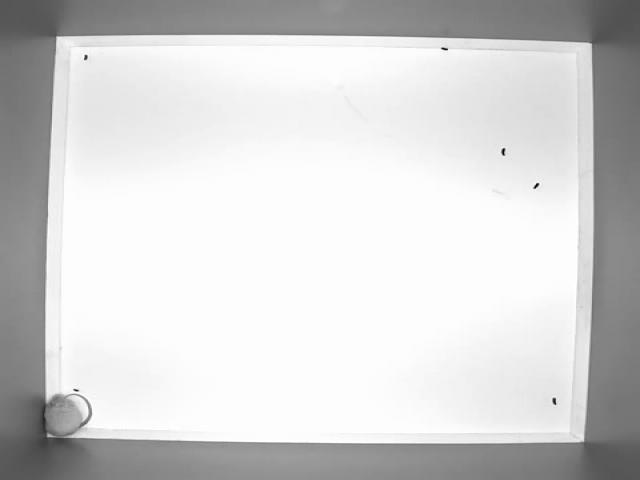Tikus: (46, 390, 91, 438)
